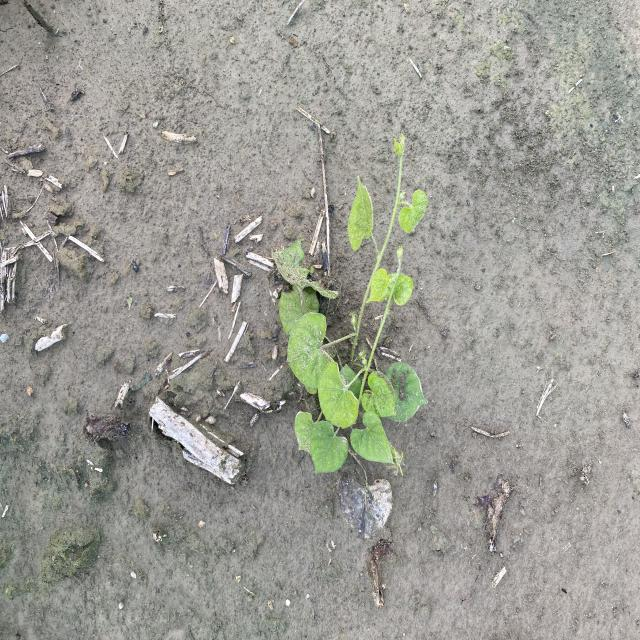MorningGlory: (270, 132, 430, 480)
